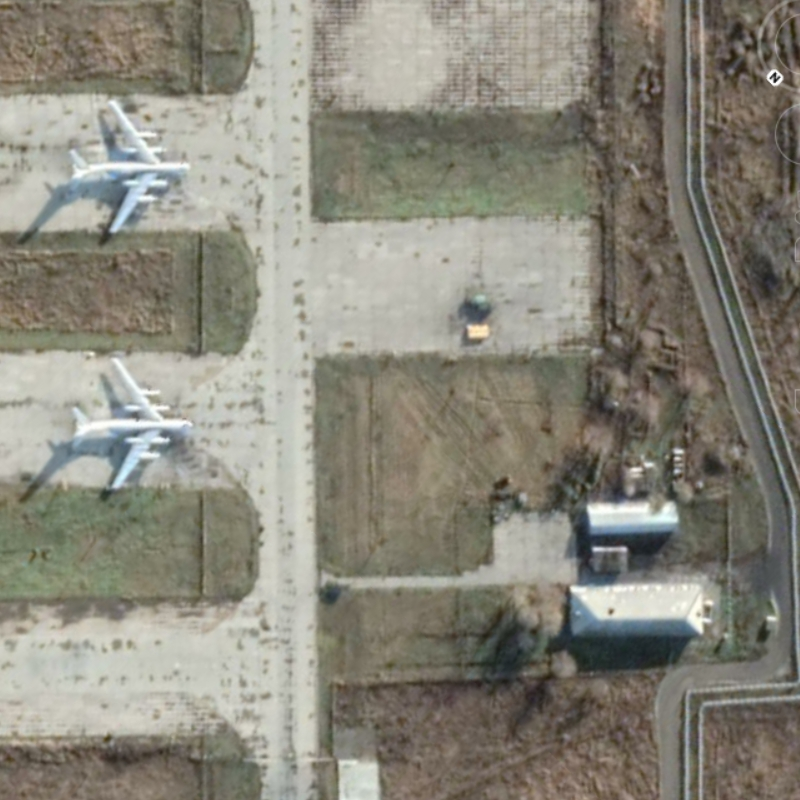A17: (58, 92, 198, 244), (64, 349, 198, 498)
